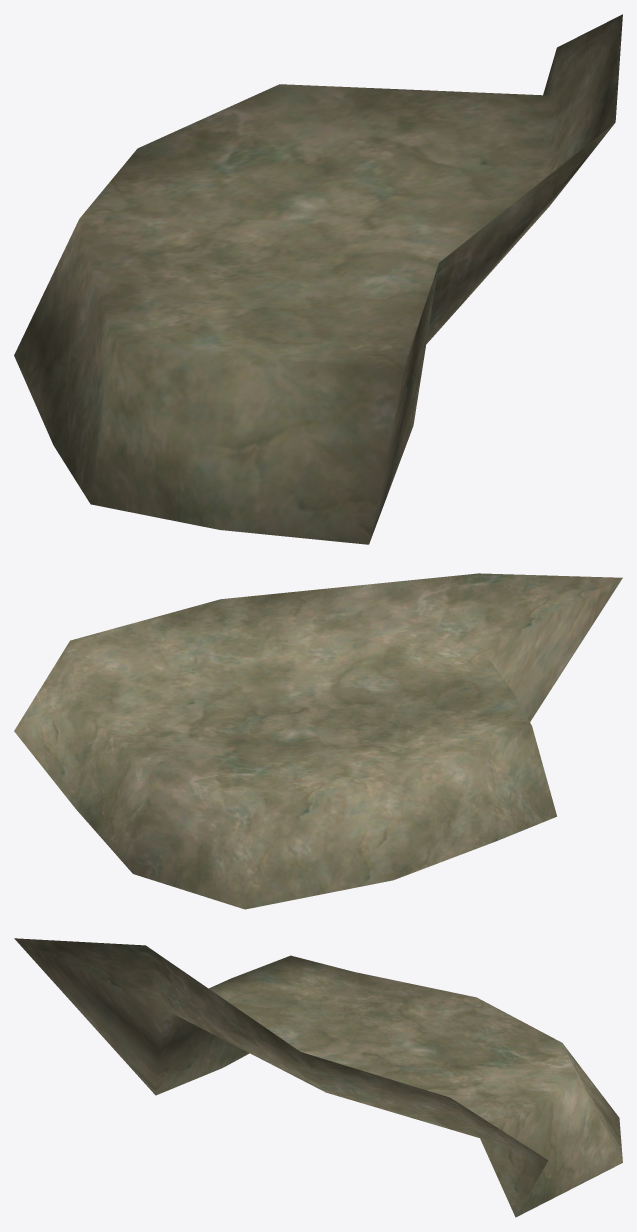
File: EKH_GROTTO_PS_GR_OBJECT16.fbx
3 renders of one model, top to bottom at view 1: azimuth 30°, elevation 25°; view 2: azimuth 150°, elevation 25°; view 3: azimuth 270°, elevation 25°, orthographic. The views are drawn at different scales.
Visible parts, largest first — view 1: EKH_GROTTO_PS_GR_OBJECT16; view 2: EKH_GROTTO_PS_GR_OBJECT16; view 3: EKH_GROTTO_PS_GR_OBJECT16.
Part boxes in pixels (x1,y1,x2,y2): EKH_GROTTO_PS_GR_OBJECT16: [14, 14, 622, 544]; EKH_GROTTO_PS_GR_OBJECT16: [14, 573, 622, 909]; EKH_GROTTO_PS_GR_OBJECT16: [14, 938, 622, 1217].
Size of the model in its own units: 22657 by 8776 by 28284.
Materials: 1 (1 with a texture image).
